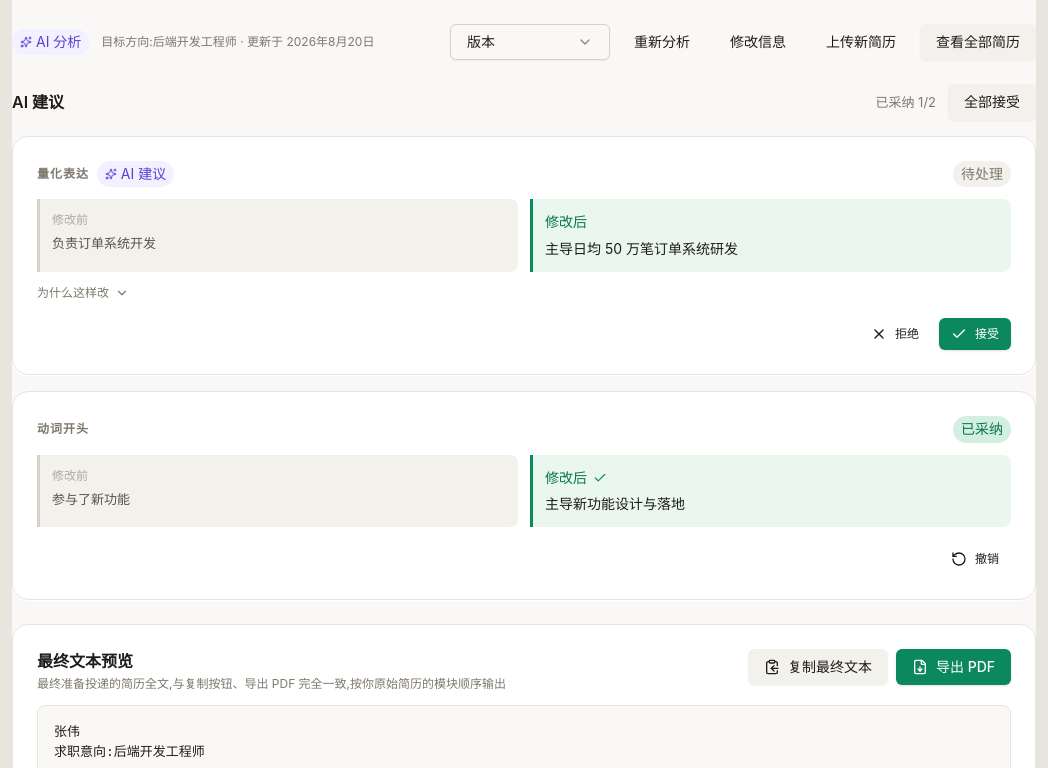
it: ResumeResult 结果视图 › 预览卡内复制按钮:writeText 收到与预览同源的 finalText + 成功 toast + 导出埋点(5.3)
Click the button "复制最终文本": (818, 667) [748,649,888,685]
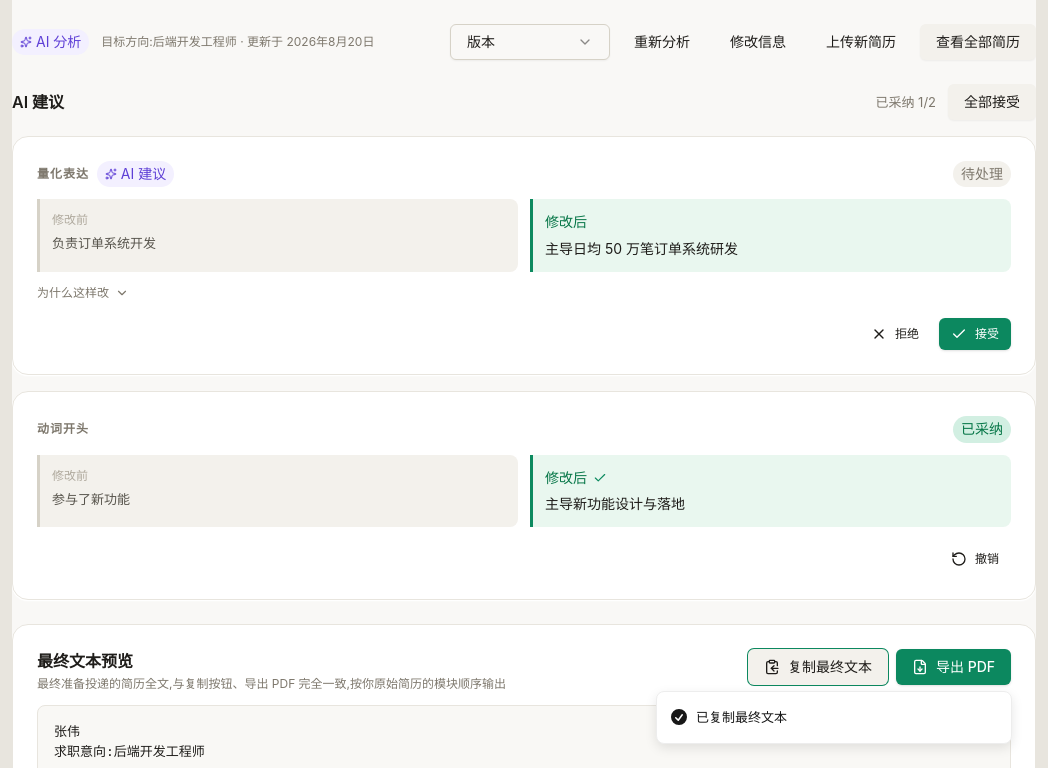
Check: the text "已复制最终文本" is shown, box [696,708,787,727]
